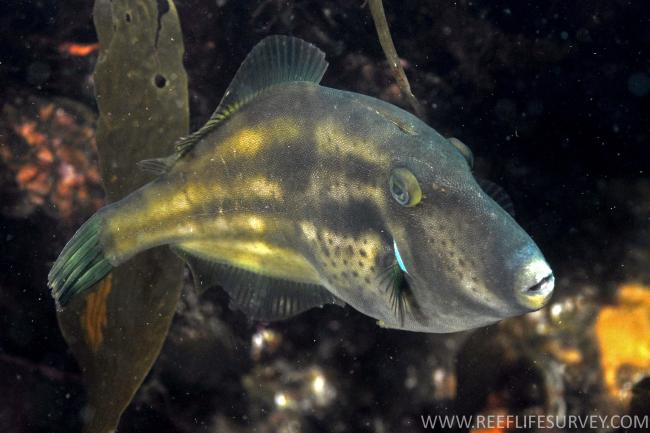fish: (46, 35, 557, 335)
